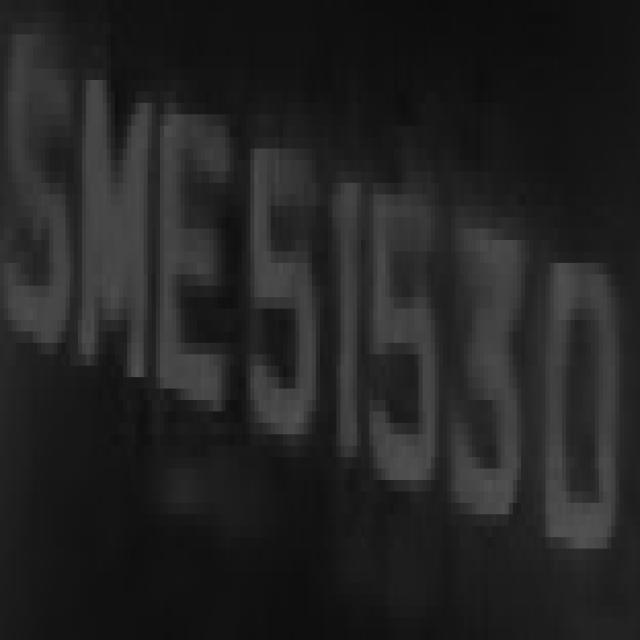1: (308, 137, 369, 526)
3: (443, 172, 538, 572)
5: (242, 80, 320, 503), (361, 149, 447, 480)
D: (538, 205, 620, 606)
E: (152, 80, 238, 457)
M: (74, 46, 156, 411)
S: (4, 23, 78, 377)
